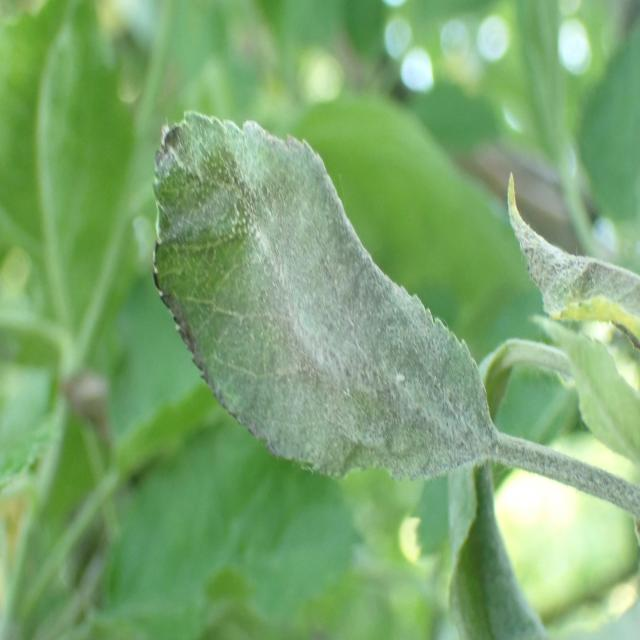Powdery_mildew: (125, 104, 538, 481), (506, 160, 640, 366)
